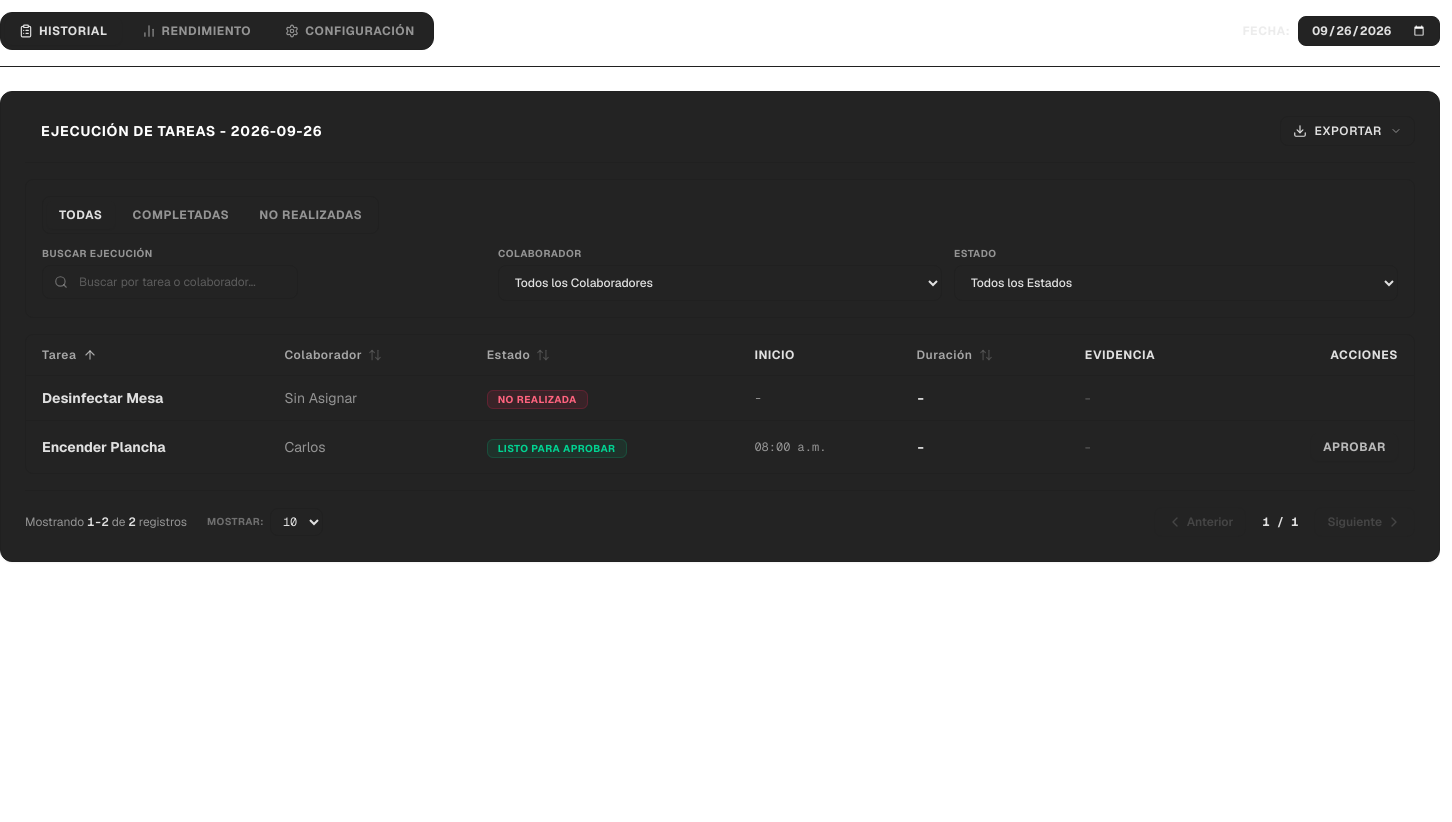
AdminTareasClient Component › should switch to config tab and render export button for tasks catalog
Note: Click config tab
Click the button "Configuración": (350, 31) [271, 17, 429, 45]
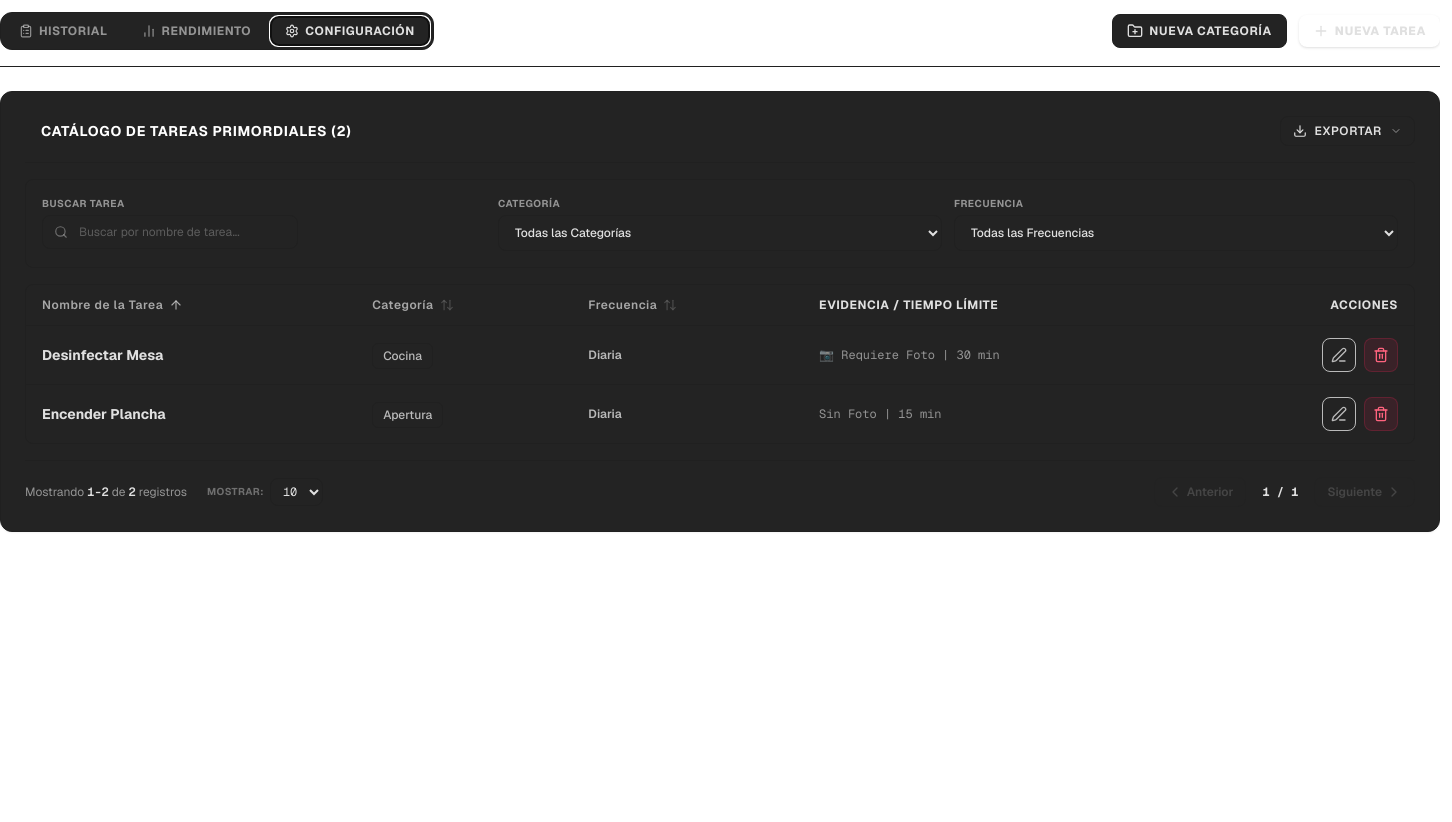
Check: the text "Encender Plancha" is shown, box [26, 384, 356, 443]
Check: the heading "Catálogo de Tareas Primordiales (2)" is shown, box [25, 121, 352, 141]
